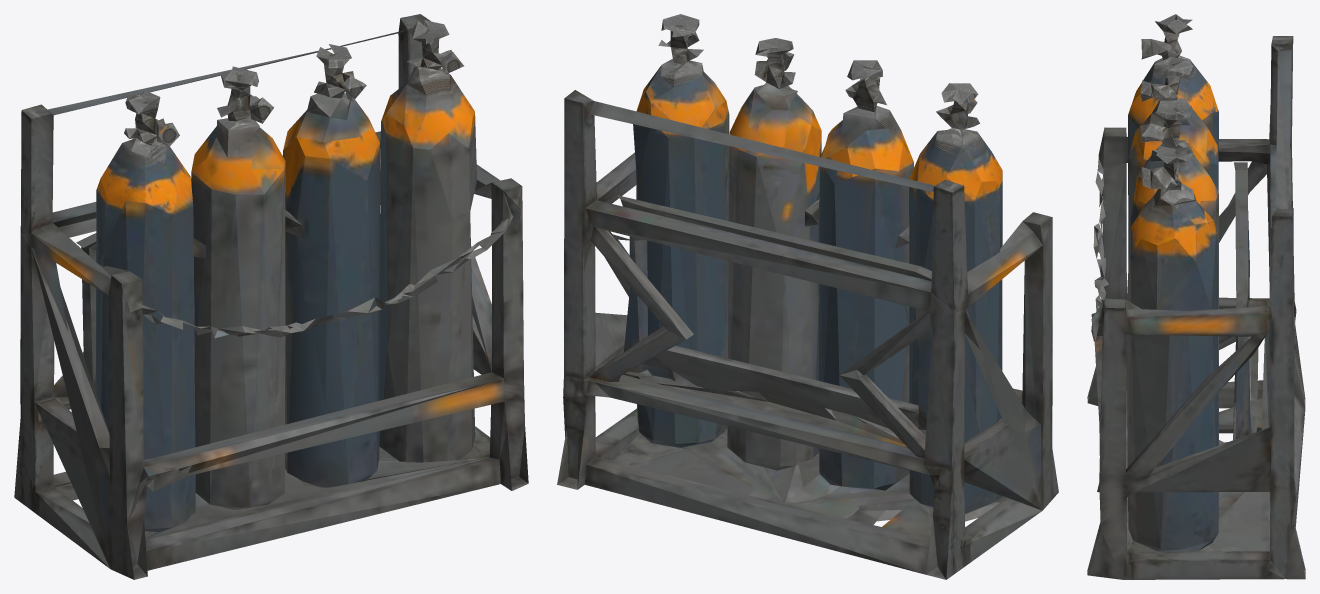
The model's file is cylinders.glb.
3 views of the same model, side by side, from view 1: azimuth 30°, elevation 25°; view 2: azimuth 150°, elevation 25°; view 3: azimuth 270°, elevation 25° (orthographic). The views are drawn at different scales.
Parts seen in each view (by area): view 1: Mesh_0; view 2: Mesh_0; view 3: Mesh_0.
Part boxes in pixels (<box>): Mesh_0: <box>14,14,528,579</box>; Mesh_0: <box>557,14,1058,579</box>; Mesh_0: <box>1087,14,1305,579</box>.
Size of the model in its own units: 1.73 by 1.8 by 0.8764.
Materials: 1 (1 with a texture image).
